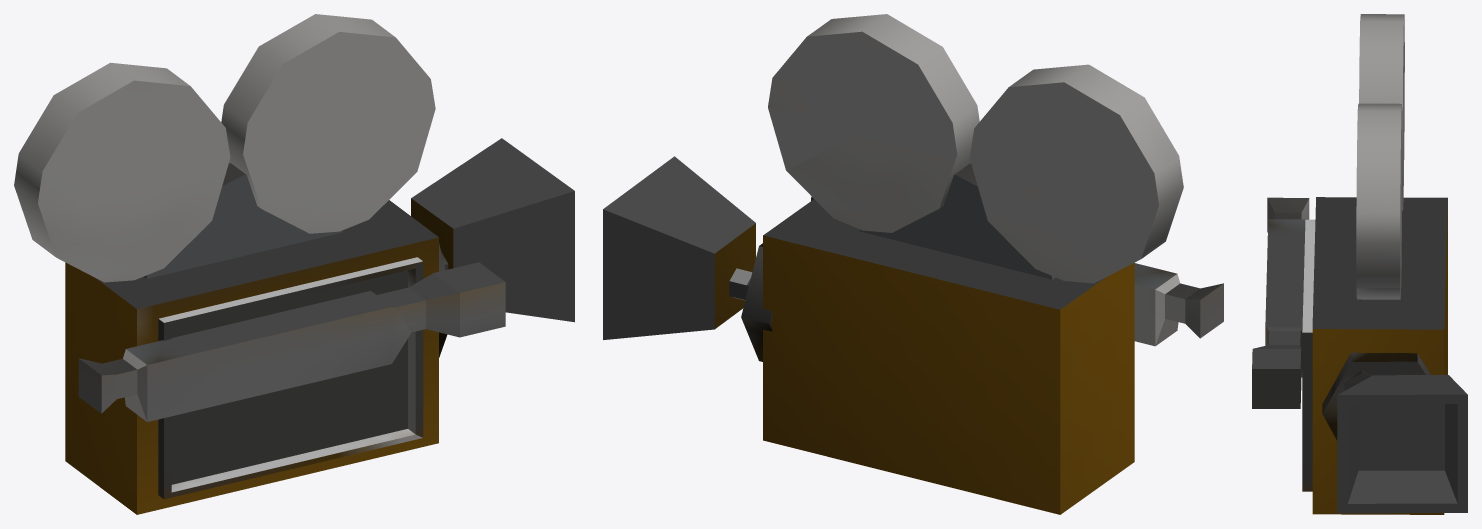
The model's file is camera.FBX.
3 renders of one model, left to right at view 1: azimuth 30°, elevation 25°; view 2: azimuth 150°, elevation 25°; view 3: azimuth 270°, elevation 25°, orthographic. The views are drawn at different scales.
Visible parts, largest first — view 1: Old_FilmCamera1; view 2: Old_FilmCamera1; view 3: Old_FilmCamera1.
Part boxes in pixels (left/top/right/bottom): Old_FilmCamera1: left=14, top=14, right=574, bottom=514; Old_FilmCamera1: left=603, top=14, right=1223, bottom=514; Old_FilmCamera1: left=1252, top=14, right=1467, bottom=514.
Bounding box in the file's own units: 5.84 × 4.38 × 2.31.
